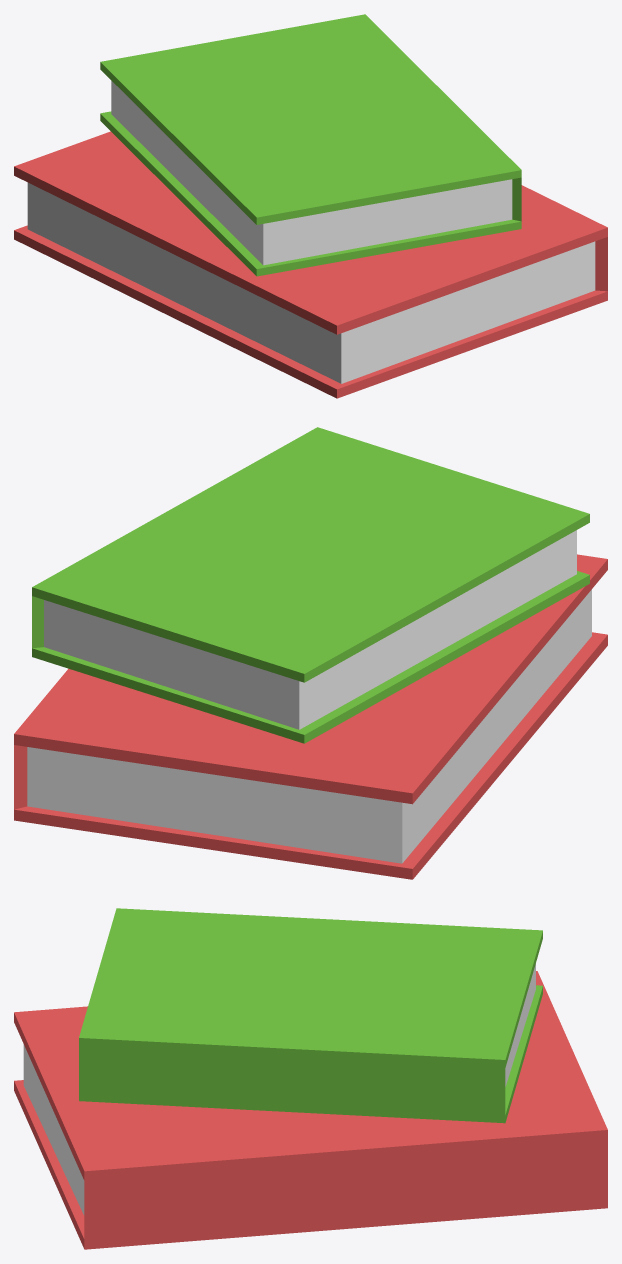
File: Books.fbx
3 views of the same model, one above another, from view 1: azimuth 30°, elevation 25°; view 2: azimuth 150°, elevation 25°; view 3: azimuth 270°, elevation 25° (orthographic). The views are drawn at different scales.
Parts seen in each view (by area): view 1: Books; view 2: Books; view 3: Books.
Part boxes in pixels (<box>): Books: <box>14,14,607,398</box>; Books: <box>14,427,607,879</box>; Books: <box>14,908,607,1249</box>.
Size of the model in its own units: 25.61 by 9.84 by 32.06.
